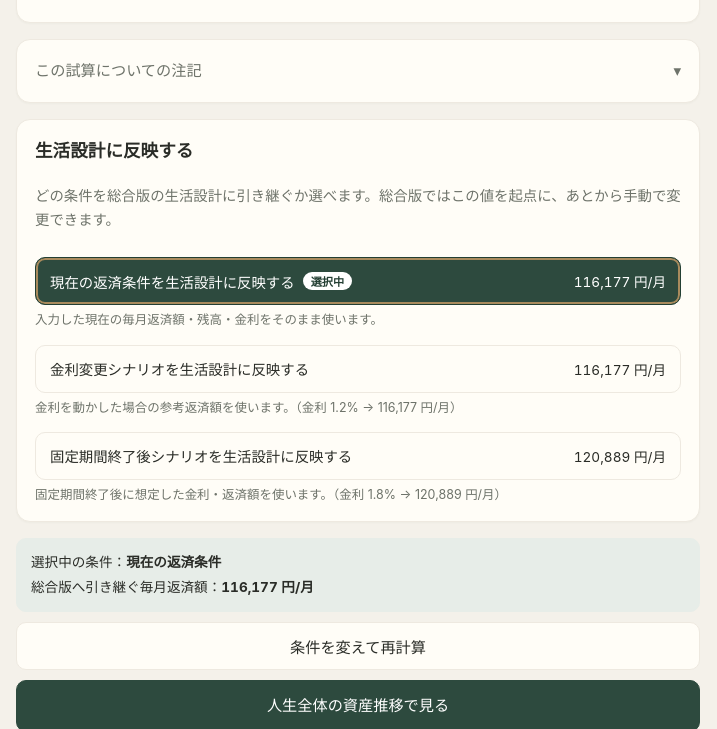
Test: ResultScreen 反映ボタンの選択状態 › 金利変更シナリオを押すと選択が移り、保存メッセージが「金利変更シナリオ」になる
(page scrolled)
Click the button "金利変更シナリオを生活設計に反映する 116,177 円/月": (180, 370) [35,344,681,392]
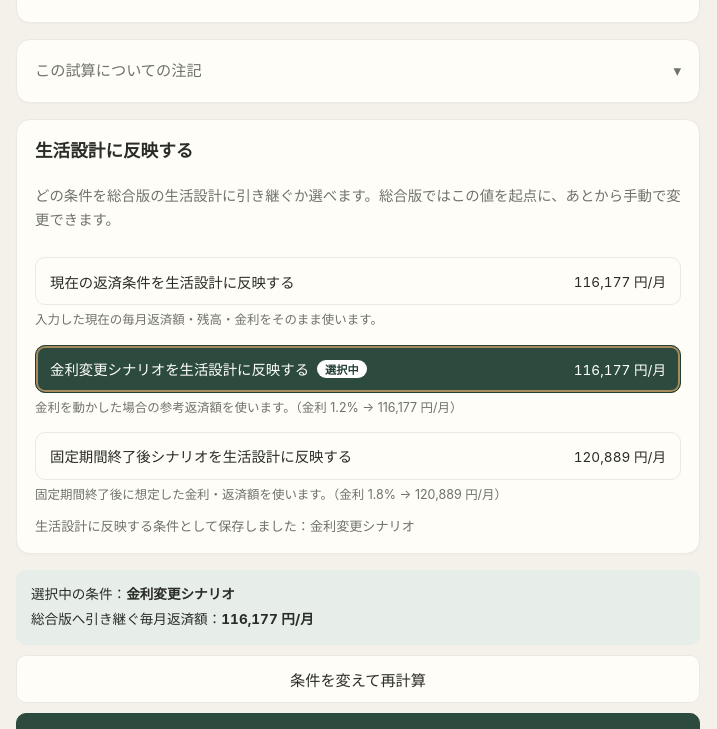
Check: the text "選択中" is shown, box [317,360,367,378]
Check: the message shows "金利変更シナリオ", box [310,518,415,534]
